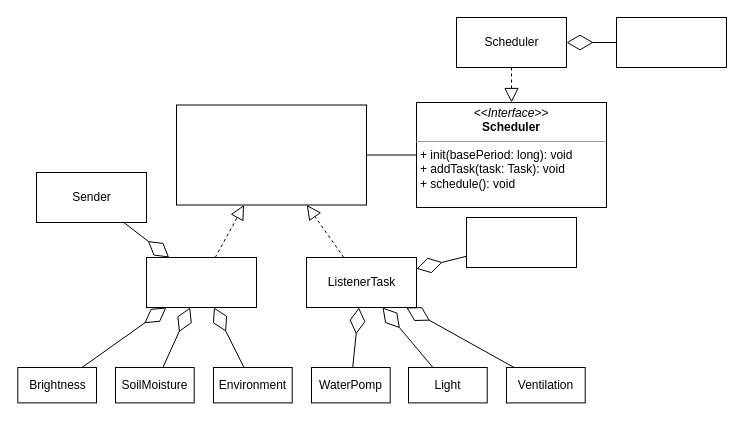
Some shapes in this 744 by 421 pixel diagram are drawn without their labels. Each missing label, with the centre of its shape:
<<Interface>> Task + init(period: int): void + tick(); void + finish(): pixel 271 154
MsgServiceEsp: pixel 521 242
SensingTask: pixel 201 282
Timer: pixel 671 42
